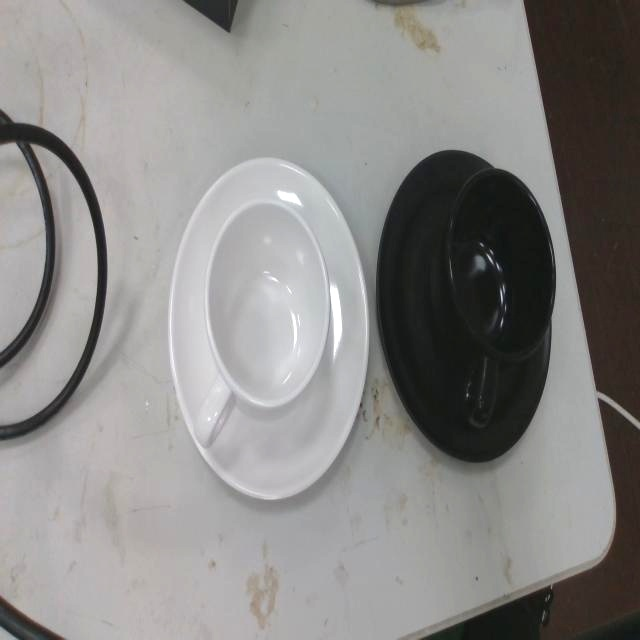black: (376, 145, 559, 468)
white: (164, 150, 374, 510)
